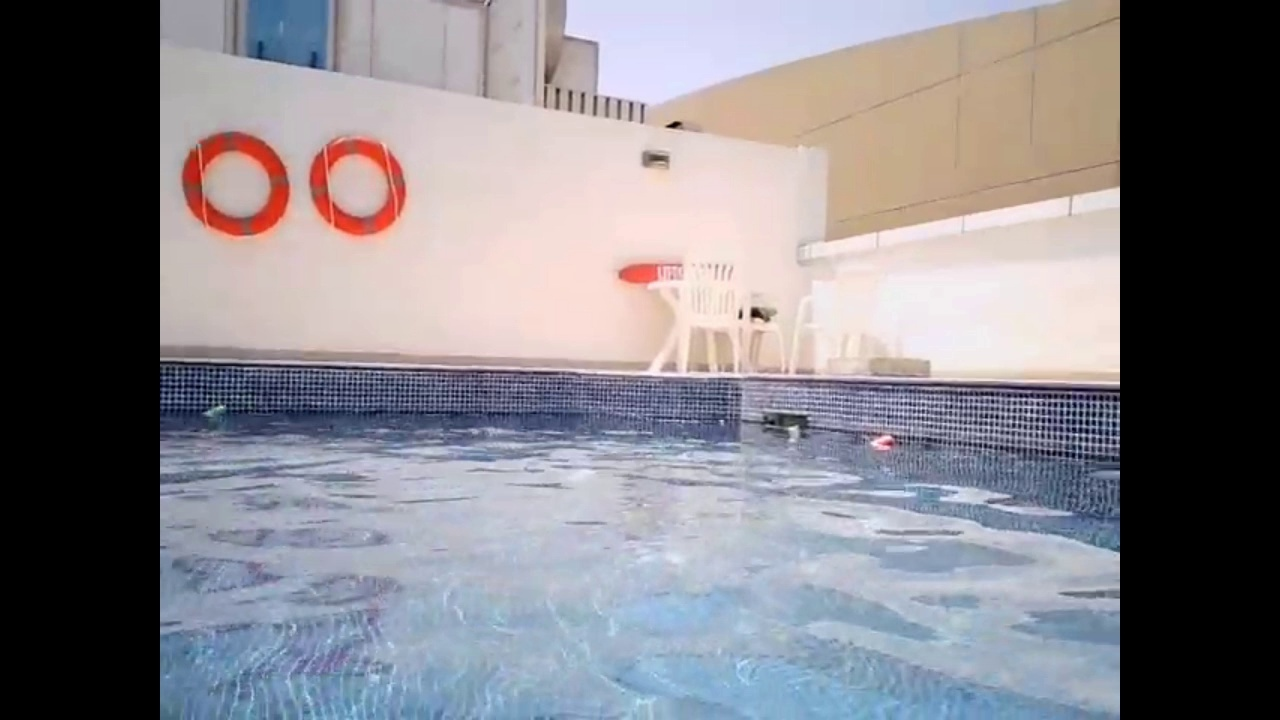debris: (862, 432, 898, 460), (198, 399, 233, 423), (781, 420, 806, 436)
